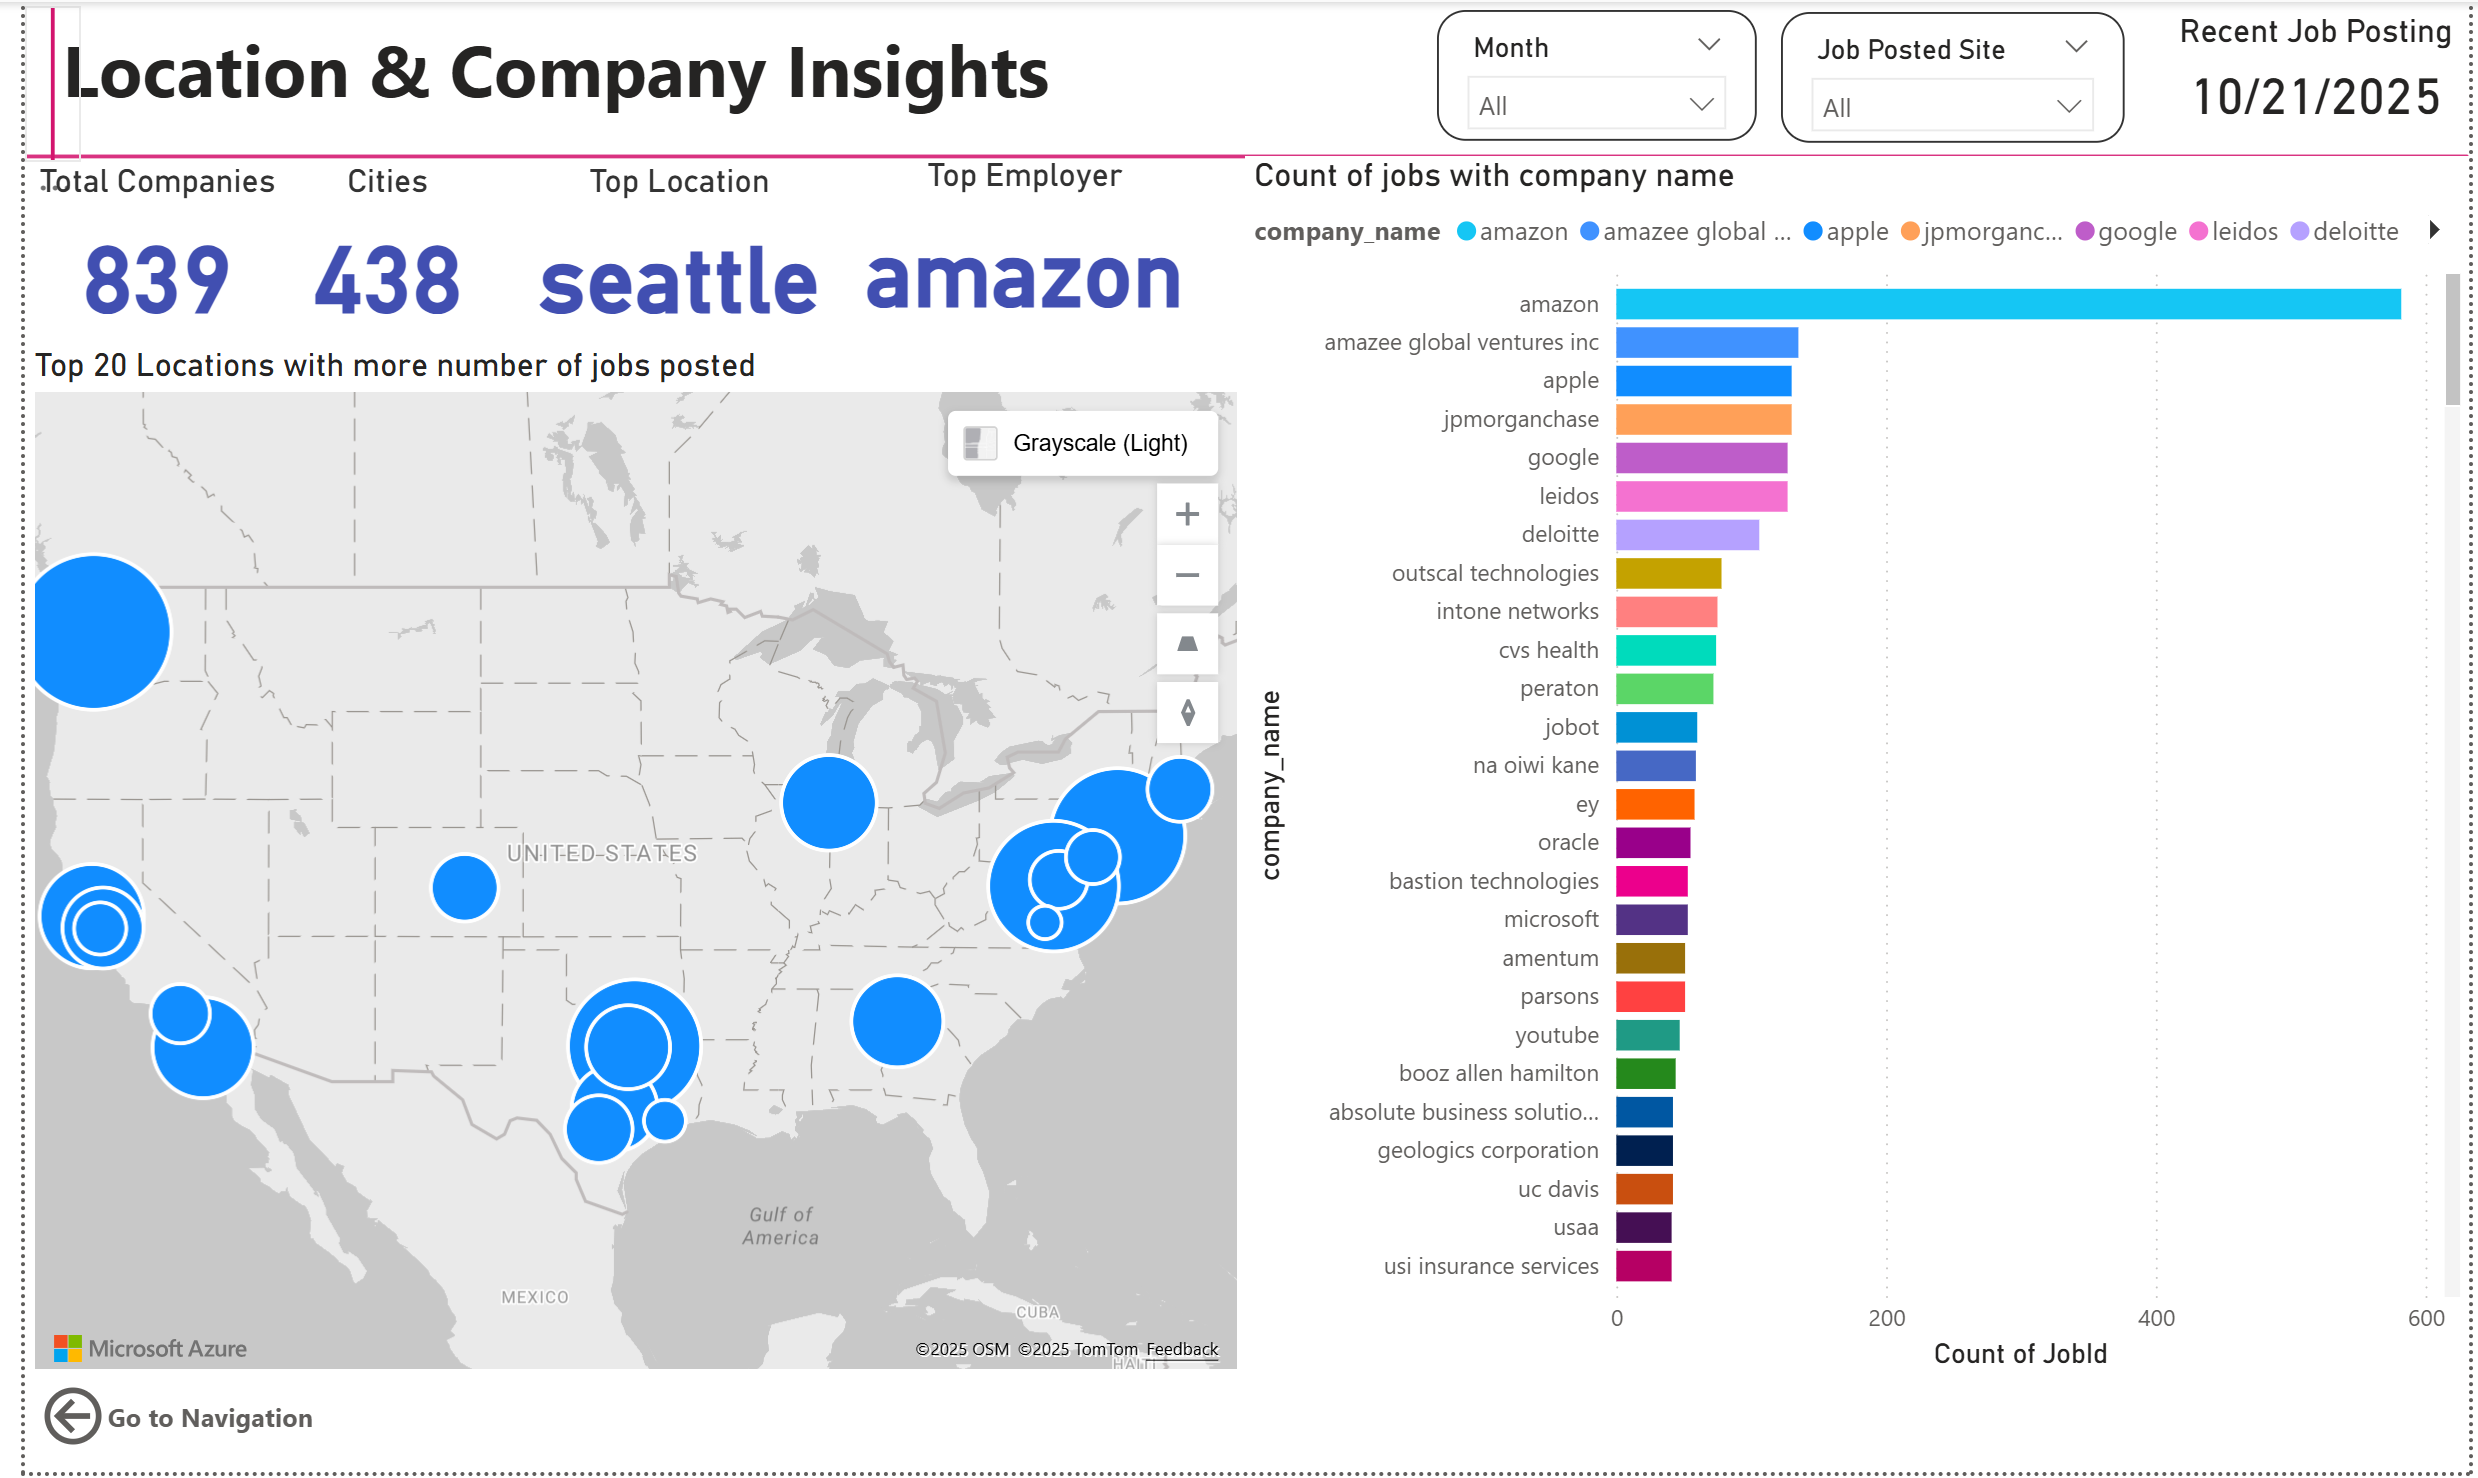

The page's visual inventory and layout, read from the dashboard file:
{"tool":"powerbi","page":{"name":"Company & Location Insights","canvas":[1280,770],"ordinal":5},"visuals":[{"type":"shape","box":[0,70,1280,21.4],"z":0},{"type":"textbox","box":[15.1,4.7,590,61.7],"z":2000},{"type":"shape","box":[0,2.3,29.1,81.5],"z":3000},{"type":"card","title":"Recent Job Posting","fields":{"Values":["job_data.Recent job date"]},"box":[1120.1,4.9,160.2,66],"z":4000},{"type":"slicer","fields":{"Values":["job_data.job_posted_site"]},"box":[919.6,4.9,179.8,68.5],"z":5000},{"type":"slicer","fields":{"Values":["job_data.job_posted_date.Variation.Date Hierarchy.Month","job_data.job_posted_date.Variation.Date Hierarchy.Day"]},"box":[740.1,4.7,167.6,68.7],"z":6000},{"type":"card","title":"Total Companies","fields":{"Values":["AllMeasures.Total Companies"]},"box":[0,83.8,138.7,96.1],"z":7000},{"type":"card","title":"Cities","fields":{"Values":["AllMeasures.unique Cities"]},"box":[129.1,83.8,122.2,96.1],"z":8000},{"type":"card","title":"Top Location","fields":{"Values":["AllMeasures.Top Hiring City"]},"box":[251.3,83.8,182.7,96.1],"z":9000},{"type":"card","title":"Top Employer","fields":{"Values":["AllMeasures.Top Employer"]},"box":[434,81,179.9,96.1],"z":10000},{"type":"azureMap","title":"Top 20 Locations with more number of jobs posted","fields":{"Category":["job_data.city"],"Size":["CountNonNull(job_data.JobId)"]},"box":[0,179.9,640,541.1],"z":11000},{"type":"barChart","title":"Count of jobs with company name","fields":{"Category":["job_data.company_name"],"Y":["CountNonNull(job_data.JobId)"],"Series":["job_data.company_name"]},"box":[638.6,81,641.4,640],"z":12000},{"type":"actionButton","box":[5.5,721,149.7,39.8],"z":13000}]}

Visuals, with their boxes in screenshot pixels (x1, y1, x2, y2), scaled from the page's 1280x770 canvas onto the 2478x1478 screenshot:
shape: [0, 134, 2477, 175]
textbox: [29, 9, 1171, 127]
shape: [0, 4, 56, 161]
"Recent Job Posting" card: [2168, 9, 2477, 136]
slicer - job_data.job_posted_site: [1780, 9, 2128, 141]
slicer - job_data.job_posted_date.Variation.Date Hierarchy.Month x job_data.job_posted_date.Variation.Date Hierarchy.Day: [1433, 9, 1757, 141]
"Total Companies" card: [0, 161, 269, 345]
"Cities" card: [250, 161, 487, 345]
"Top Location" card: [487, 161, 840, 345]
"Top Employer" card: [840, 155, 1188, 340]
"Top 20 Locations with more number of jobs posted" azureMap: [0, 345, 1239, 1384]
"Count of jobs with company name" barChart: [1236, 155, 2477, 1384]
actionButton: [11, 1384, 300, 1460]
